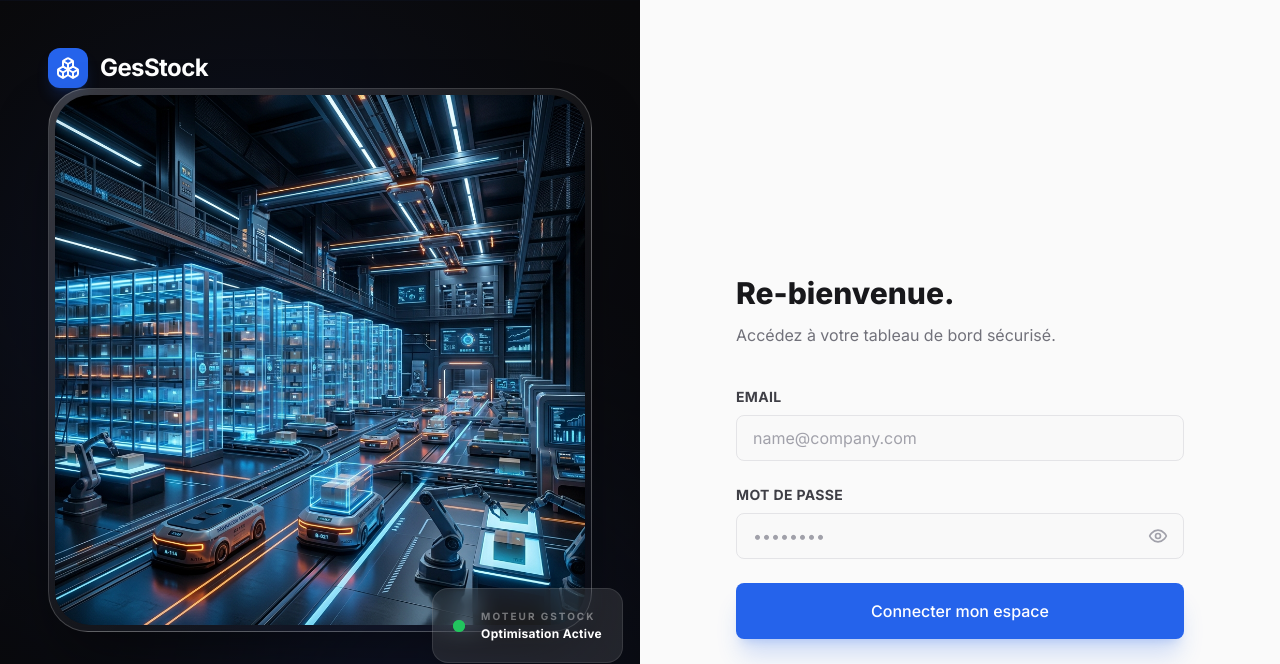
Test: LoginPage › Loading State › désactive le bouton de soumission pendant la requête
This screenshot has width=1280, height=664.
Step 1. Type "test@example.com" into the field with placeholder "name@company.com" → (960, 438), box [736,414,1184,460]
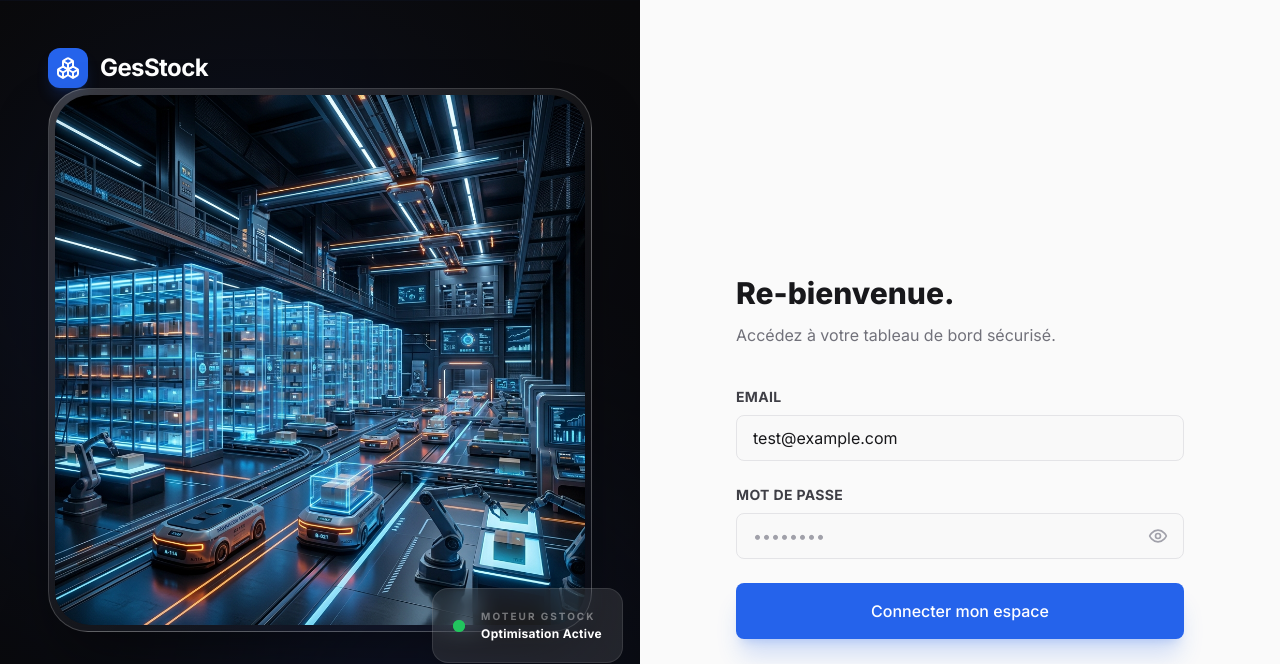
Step 2. Type "password123" into the password field with placeholder "••••••••" → (960, 536), box [736,512,1184,558]
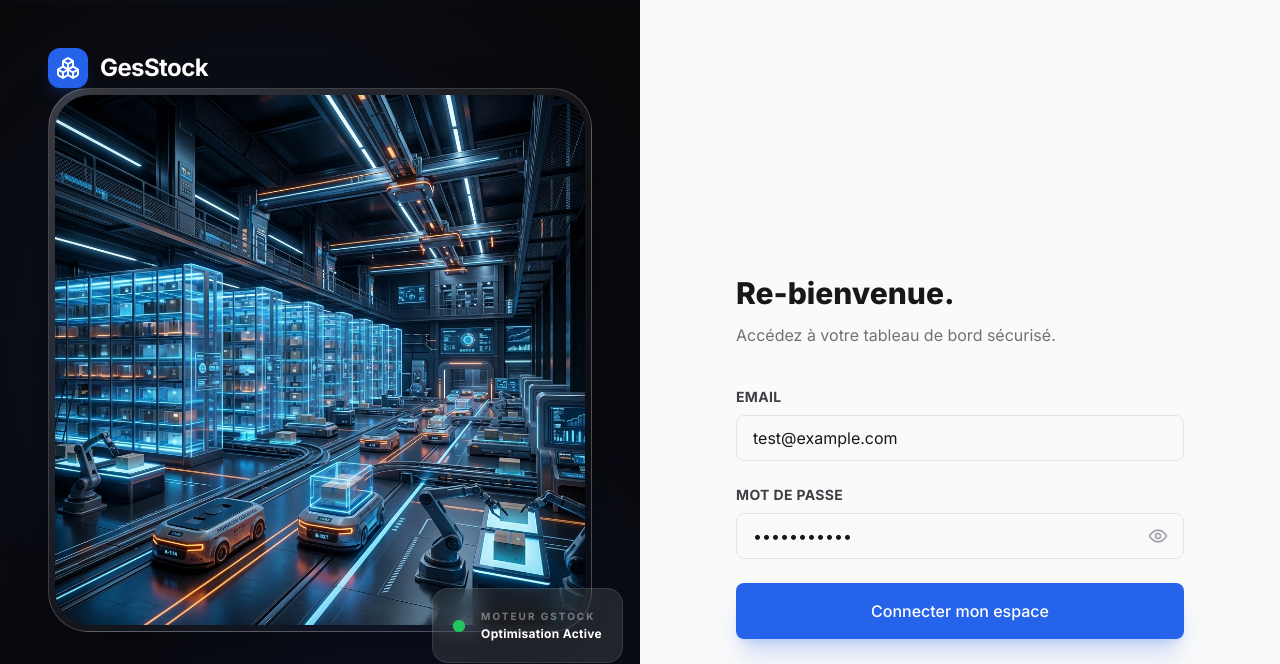
Step 3. Click the button "Connecter mon espace" → (960, 610), box [736,582,1184,638]
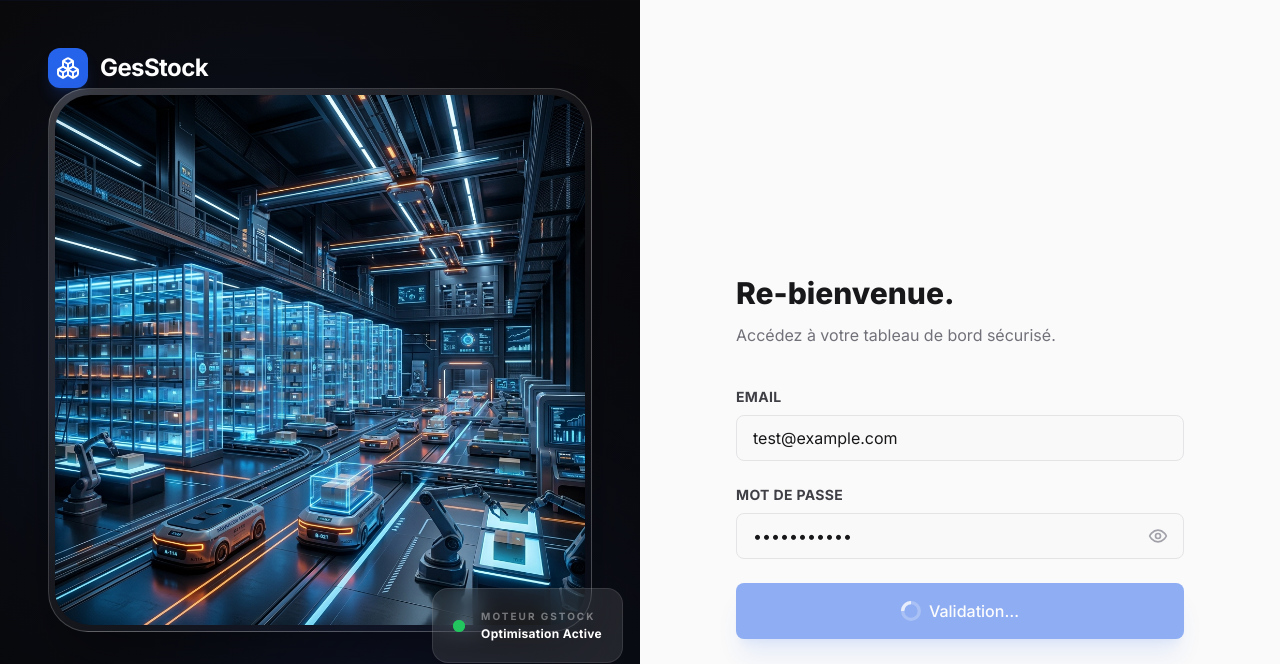
Expected: the button named "Connecter mon espace" is disabled, [736,582,1184,638]
